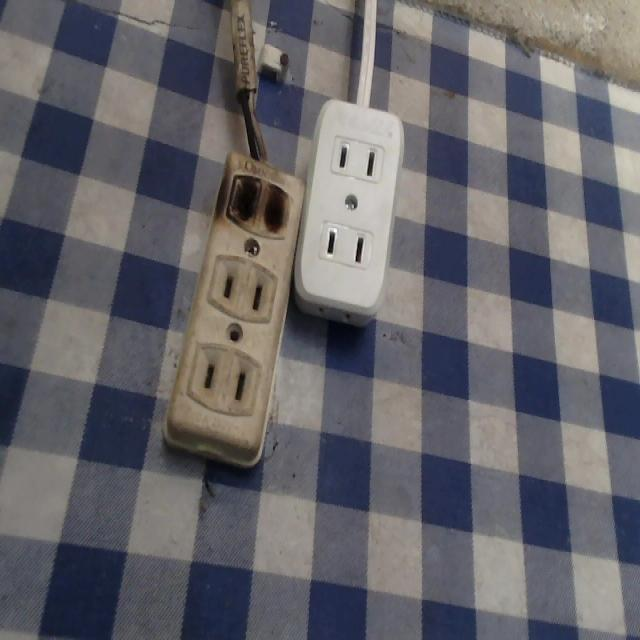-: (214, 157, 297, 235)
